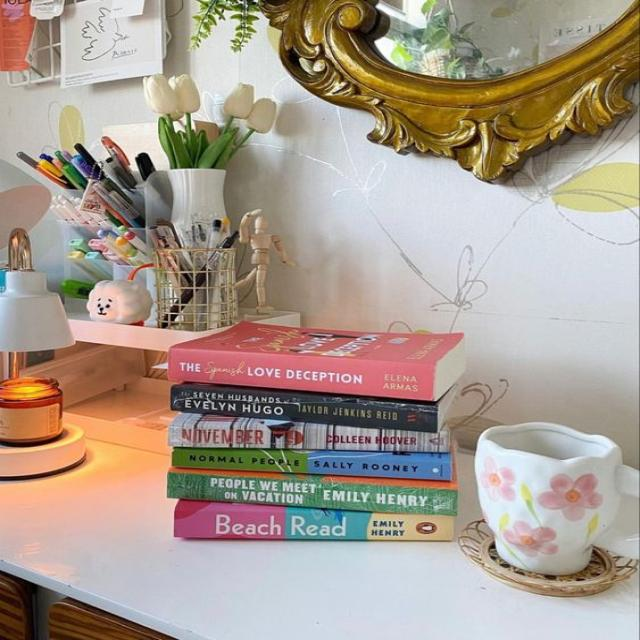book: (167, 470, 457, 515), (169, 350, 435, 398), (171, 385, 440, 432), (174, 499, 454, 541), (168, 412, 448, 453), (172, 449, 451, 480)
